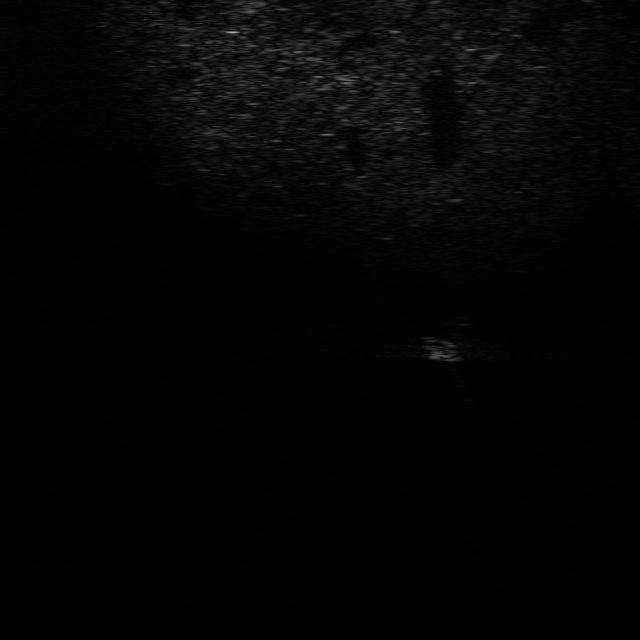cube: (416, 332, 469, 363)
